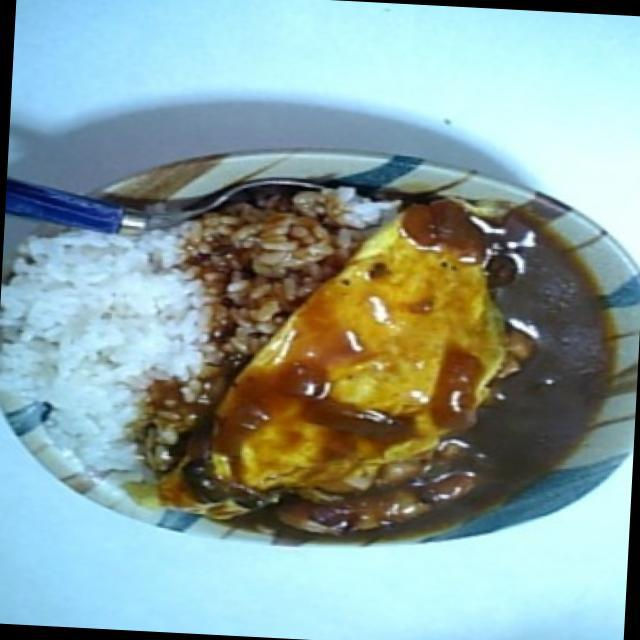Beef Curry: (255, 226, 560, 564)
